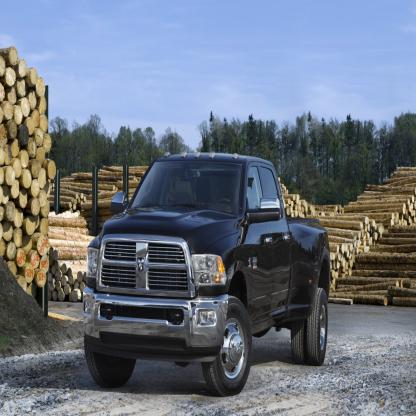Vehicle: (82, 152, 330, 395)
